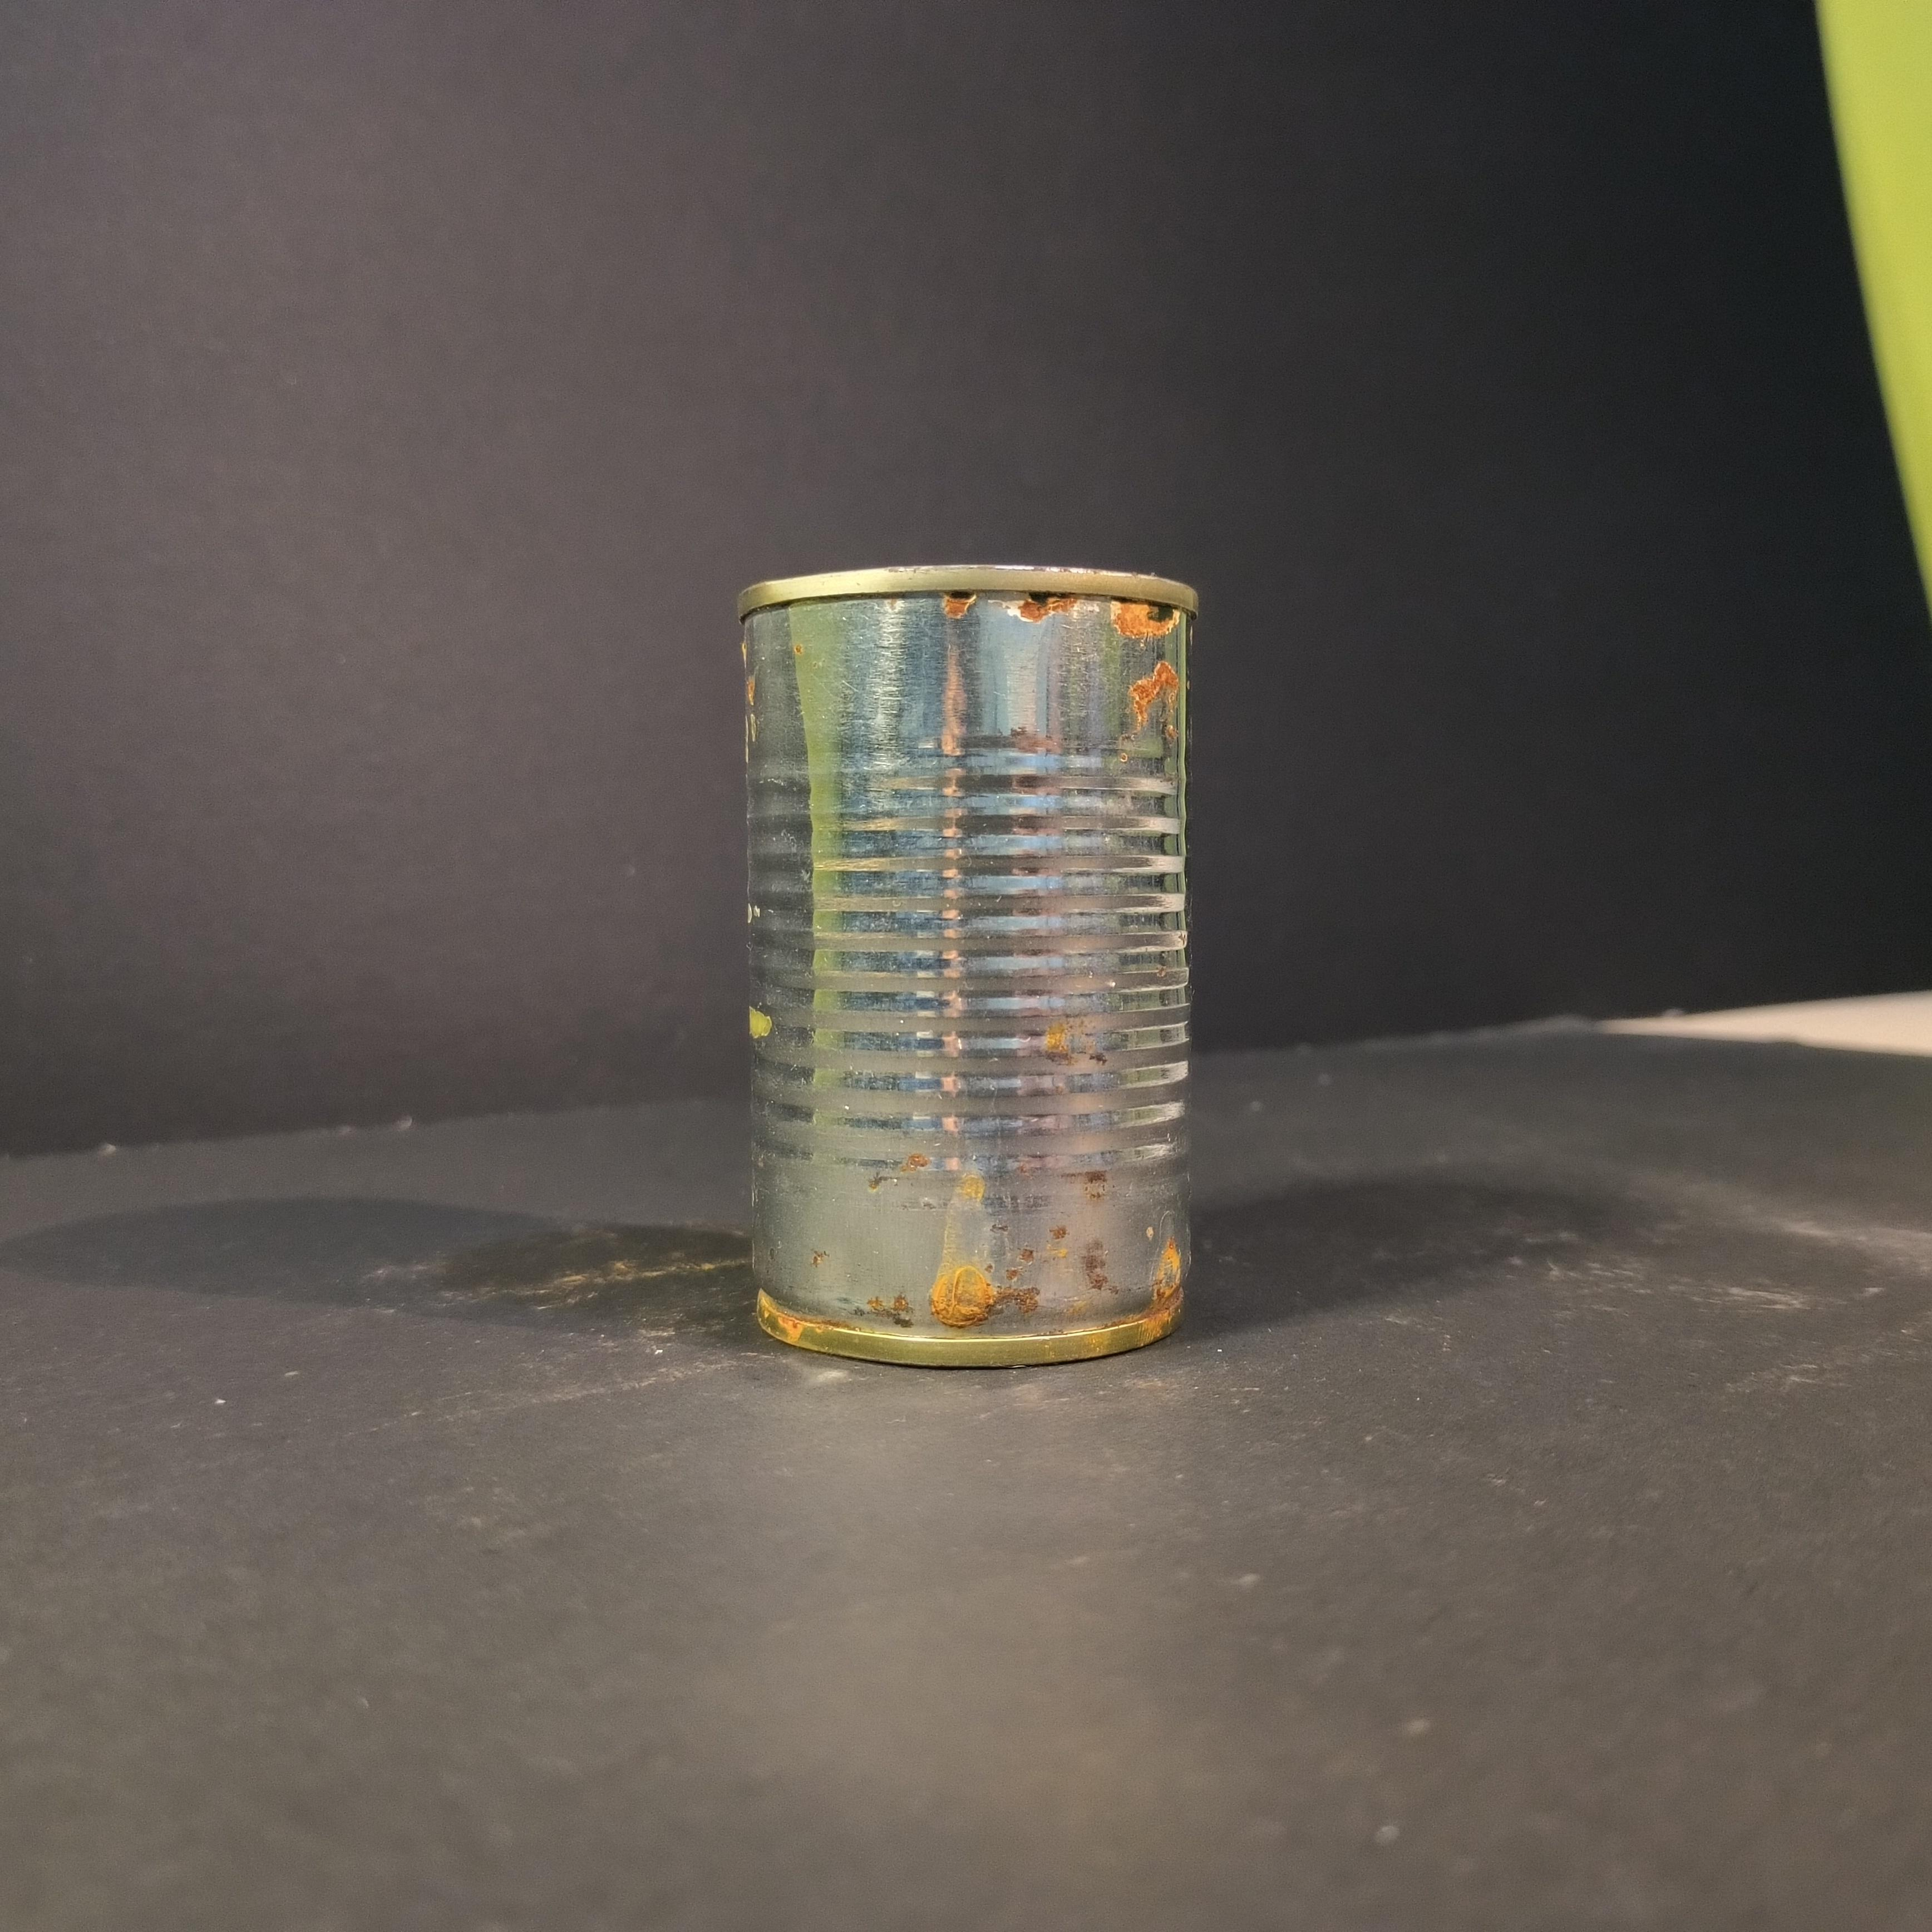Rusted: (715, 529, 1233, 1364)
